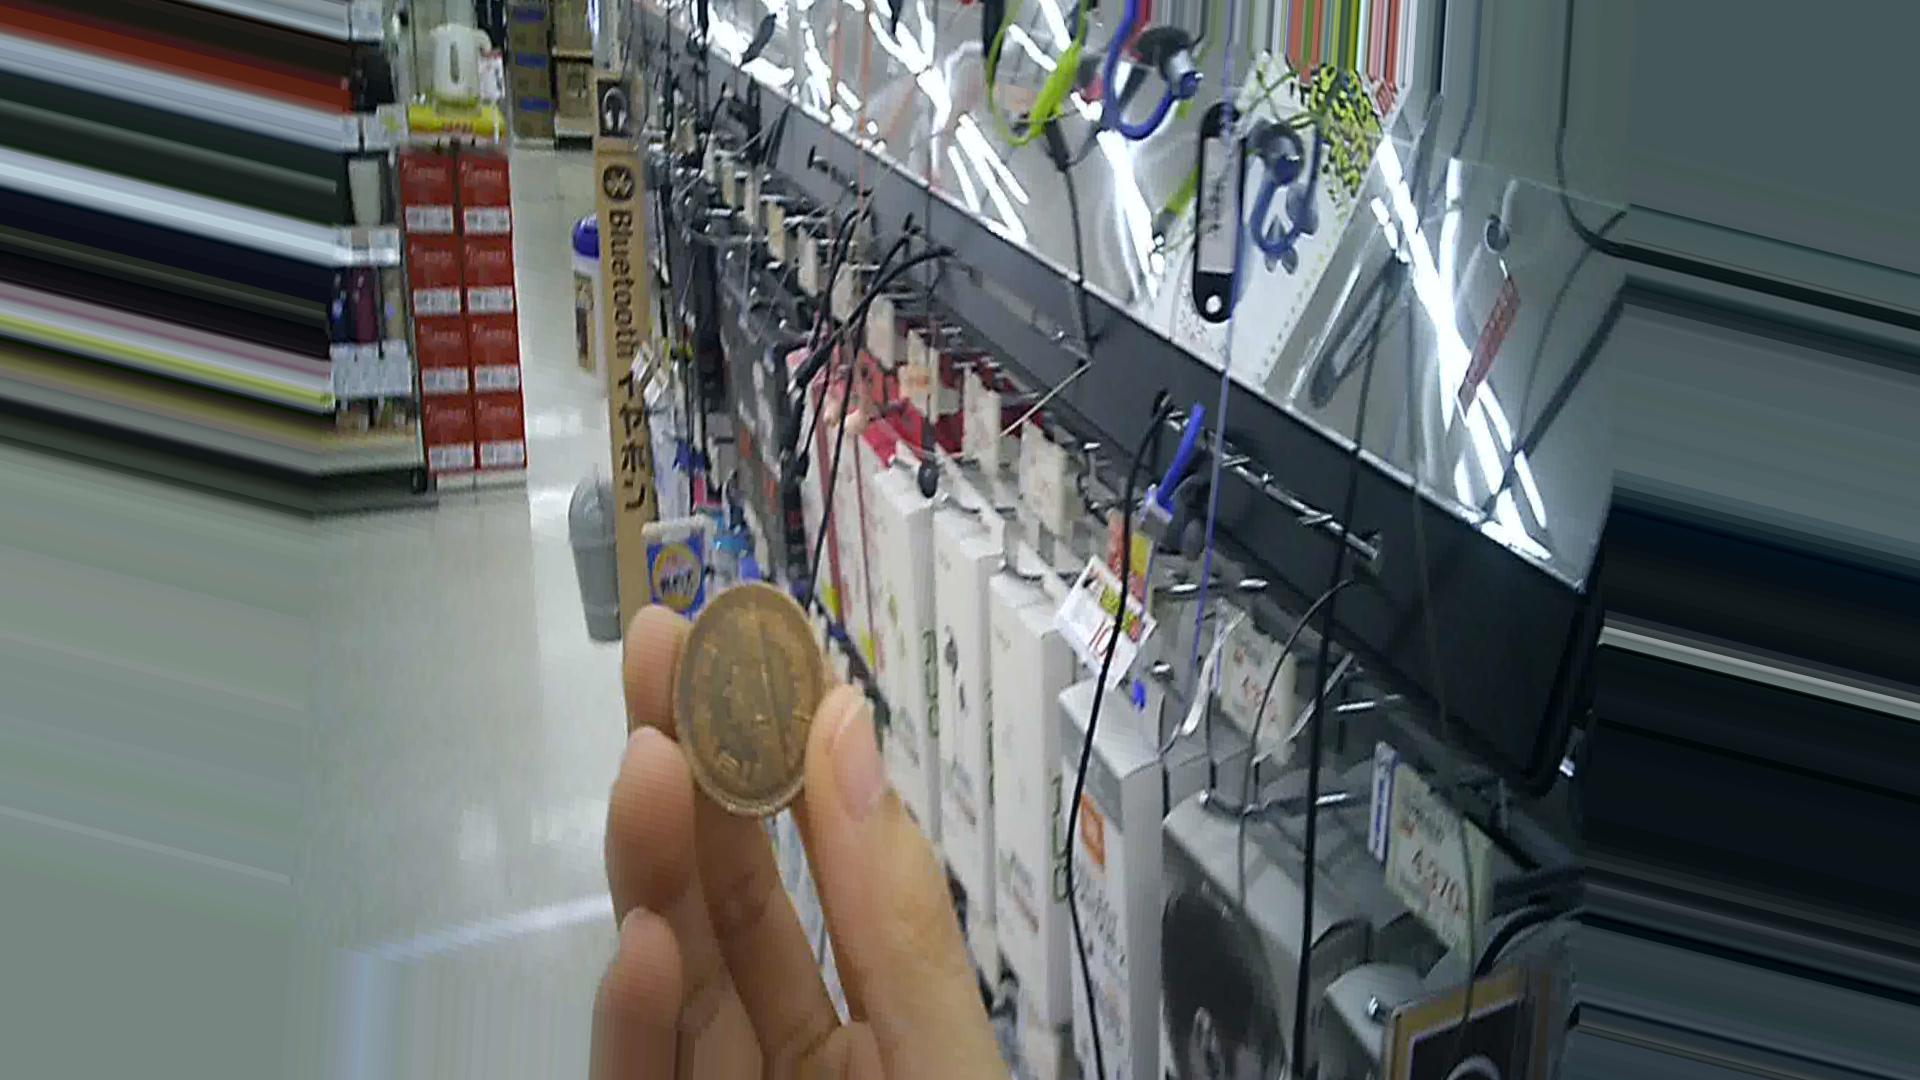10 Yen: (675, 585, 820, 815)
